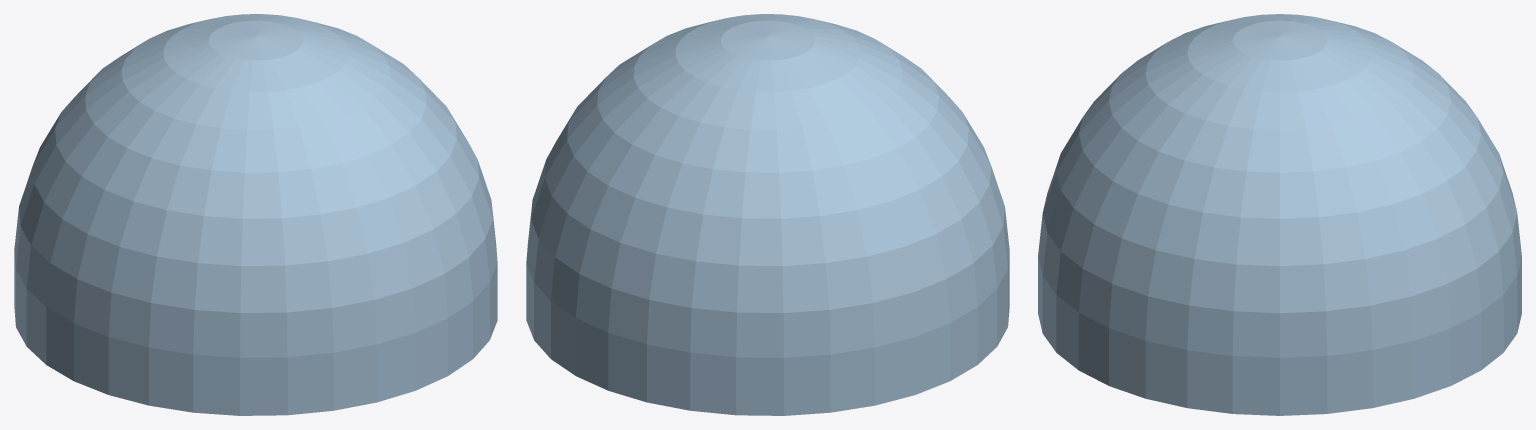
Rendered from BARRIER.fbx.
The picture shows the model from 3 angles, left to right: view 1: azimuth 30°, elevation 25°; view 2: azimuth 150°, elevation 25°; view 3: azimuth 270°, elevation 25°; orthographic projection.
Visible parts, largest first — view 1: Sphere; view 2: Sphere; view 3: Sphere.
Part boxes in pixels (x1=…): Sphere: x1=14, y1=14, x2=497, y2=415; Sphere: x1=526, y1=14, x2=1009, y2=415; Sphere: x1=1038, y1=14, x2=1521, y2=415.
Size of the model in its own units: 592 by 375 by 592.
